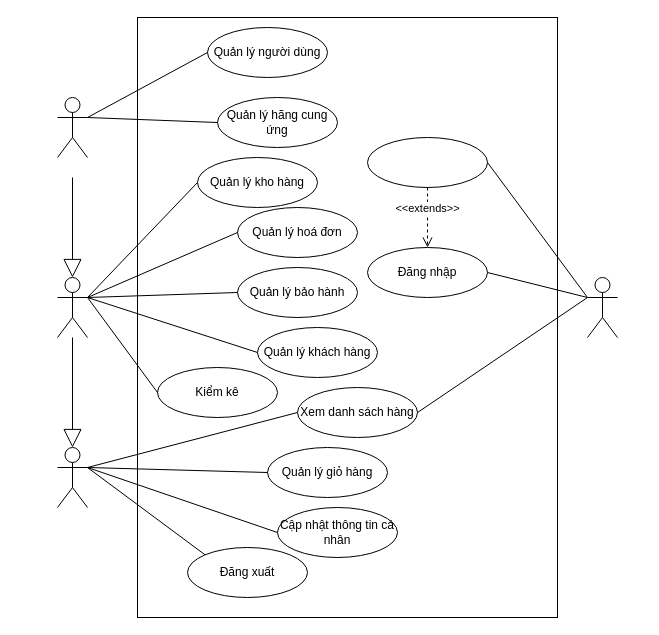
Some shapes in this 659 by 635 pixel diagram are drawn without their labels. The shapes that lost their labels are listed below. From the top down, each one's centre as x and y in pixels, then its label:
At pixel 72 127: "Quản trị viên".
At pixel 427 162: "Đăng ký".
At pixel 72 307: "Nhân viên".
At pixel 602 307: "Khách vãng lai".
At pixel 72 477: "Khách đã đăng nhập".
